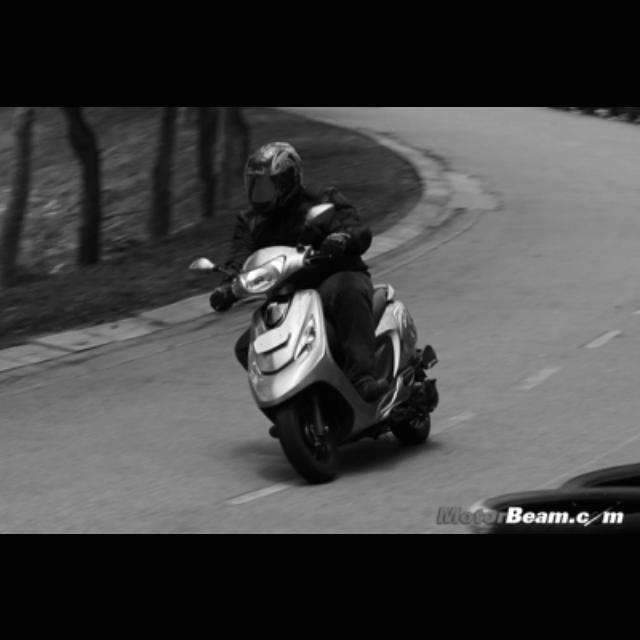With Helmet: (232, 135, 310, 215)
